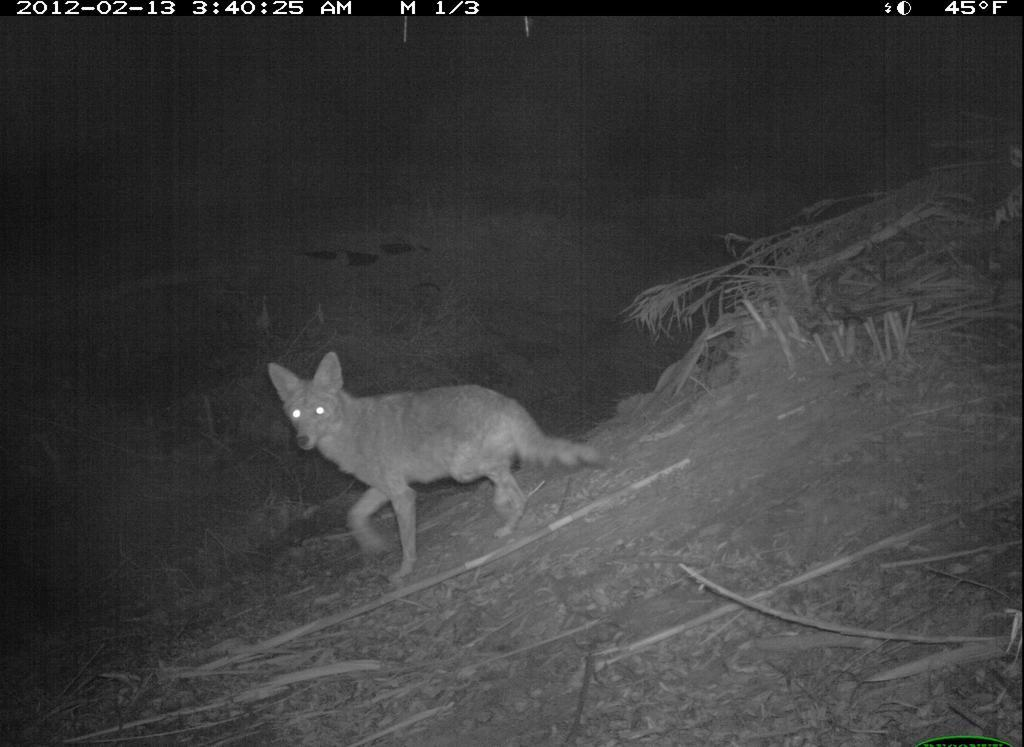coyote: (255, 349, 612, 587)
